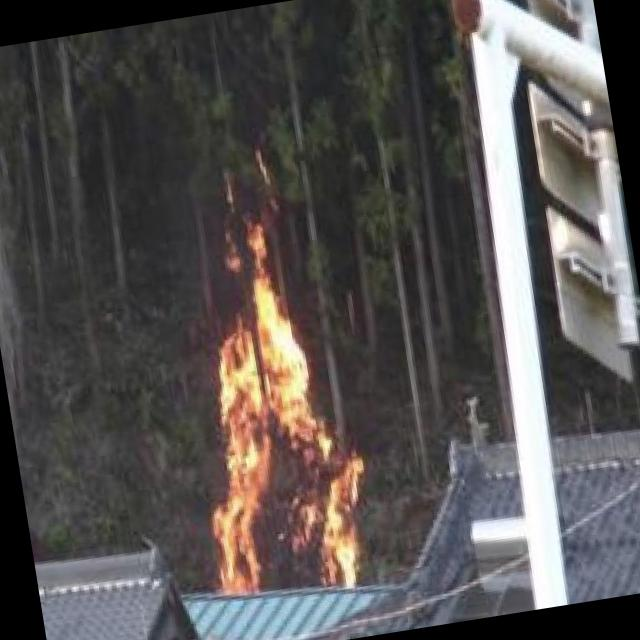Fire: (166, 209, 374, 606)
